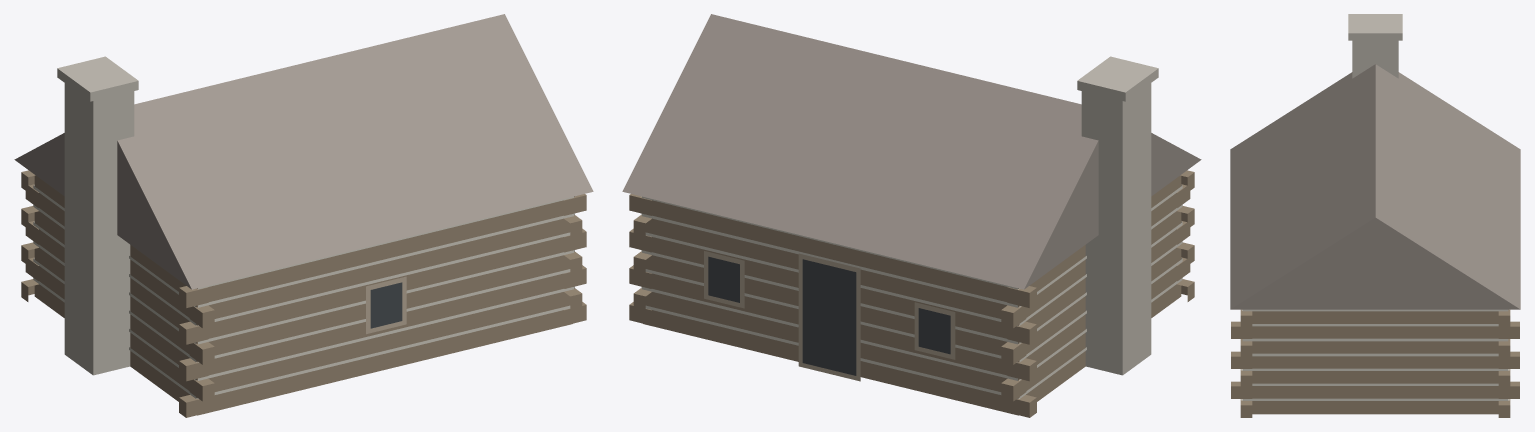
File: chappel_infant_school__log_1833.glb
The picture shows the model from 3 angles, left to right: view 1: azimuth 30°, elevation 25°; view 2: azimuth 150°, elevation 25°; view 3: azimuth 270°, elevation 25°; orthographic projection. The views are drawn at different scales.
Parts seen in each view (by area): view 1: chappel_infant_school__log_1833; view 2: chappel_infant_school__log_1833; view 3: chappel_infant_school__log_1833.
Boxes of the visible parts, x1,y1,x2,y2 form: chappel_infant_school__log_1833: [14, 14, 593, 417]; chappel_infant_school__log_1833: [622, 14, 1201, 417]; chappel_infant_school__log_1833: [1230, 14, 1520, 417].
Size of the model in its own units: 8.39 by 5.38 by 5.99.
